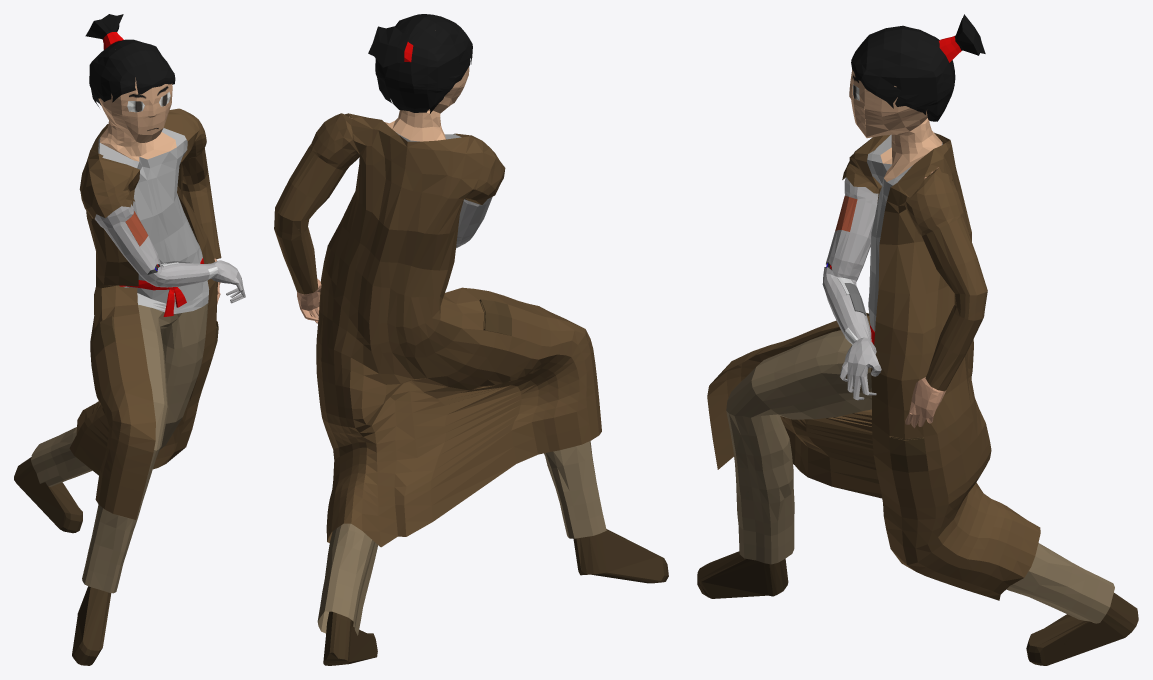
The model's file is One_DL_000008.obj.
The picture shows the model from 3 angles, left to right: view 1: azimuth 30°, elevation 25°; view 2: azimuth 150°, elevation 25°; view 3: azimuth 270°, elevation 25°; orthographic projection. The views are drawn at different scales.
Parts seen in each view (by area): view 1: Hair_Cube.004; view 2: Hair_Cube.004; view 3: Hair_Cube.004.
Part boxes in pixels (x1,y1,x2,y2): Hair_Cube.004: (14, 14, 245, 665); Hair_Cube.004: (274, 14, 668, 665); Hair_Cube.004: (697, 14, 1138, 665).
Bounding box in the file's own units: 1.64 × 3.52 × 2.16.
